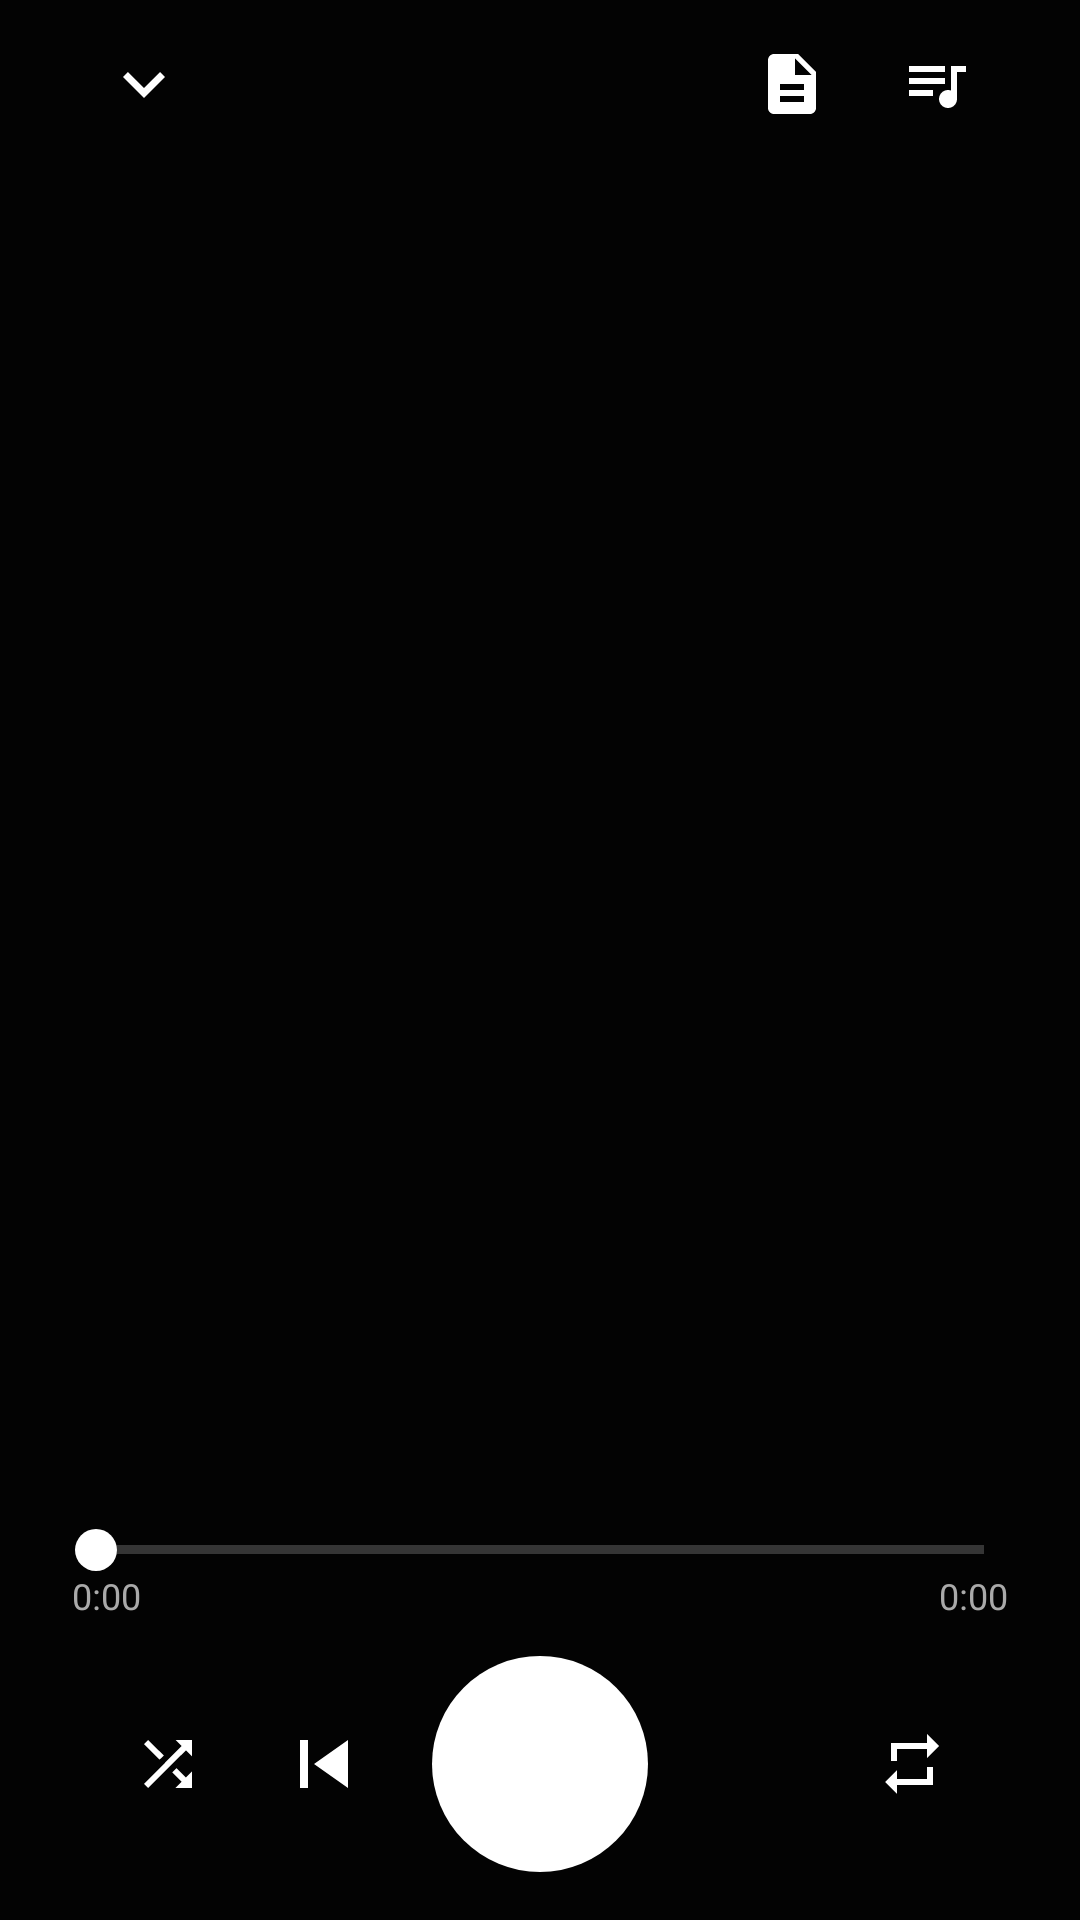

Icon bounding boxes for this 1080 x 1920 phone screenshot, format [x1, y1, x2, y2]:
Acak: [144, 1740, 192, 1788]
Antrean: [909, 66, 966, 108]
Lirik: [768, 54, 816, 114]
Sebelumnya: [300, 1740, 348, 1788]
Tutup: [123, 72, 165, 98]
Ulang: [885, 1734, 939, 1794]
